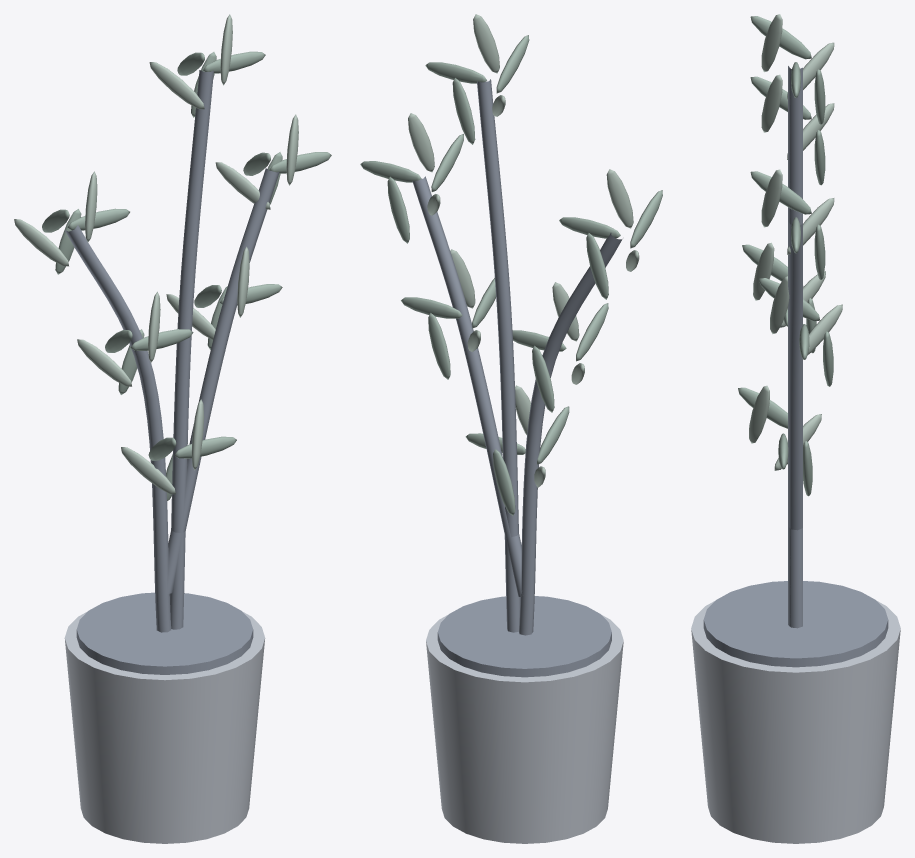
File: plant.glb
3 renders of one model, left to right at view 1: azimuth 30°, elevation 25°; view 2: azimuth 150°, elevation 25°; view 3: azimuth 270°, elevation 25°, orthographic. The views are drawn at different scales.
Parts seen in each view (by area): view 1: plant; view 2: plant; view 3: plant.
Part boxes in pixels (x1,y1,x2,y2): plant: (14, 14, 331, 843); plant: (360, 14, 662, 843); plant: (691, 14, 900, 843).
Bounding box in the file's own units: 0.6466 × 1.62 × 0.375.
